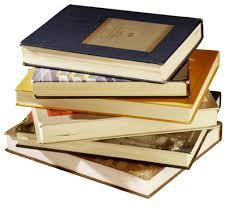Paper: (4, 6, 238, 212)
